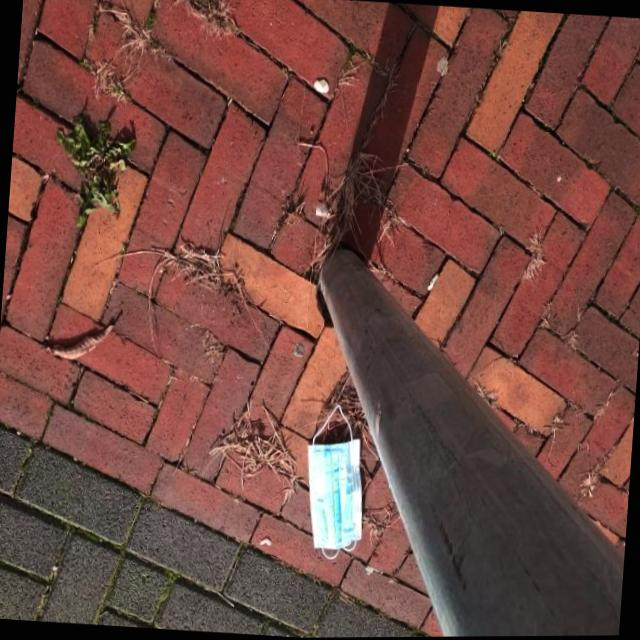Mask: (298, 407, 364, 564)
